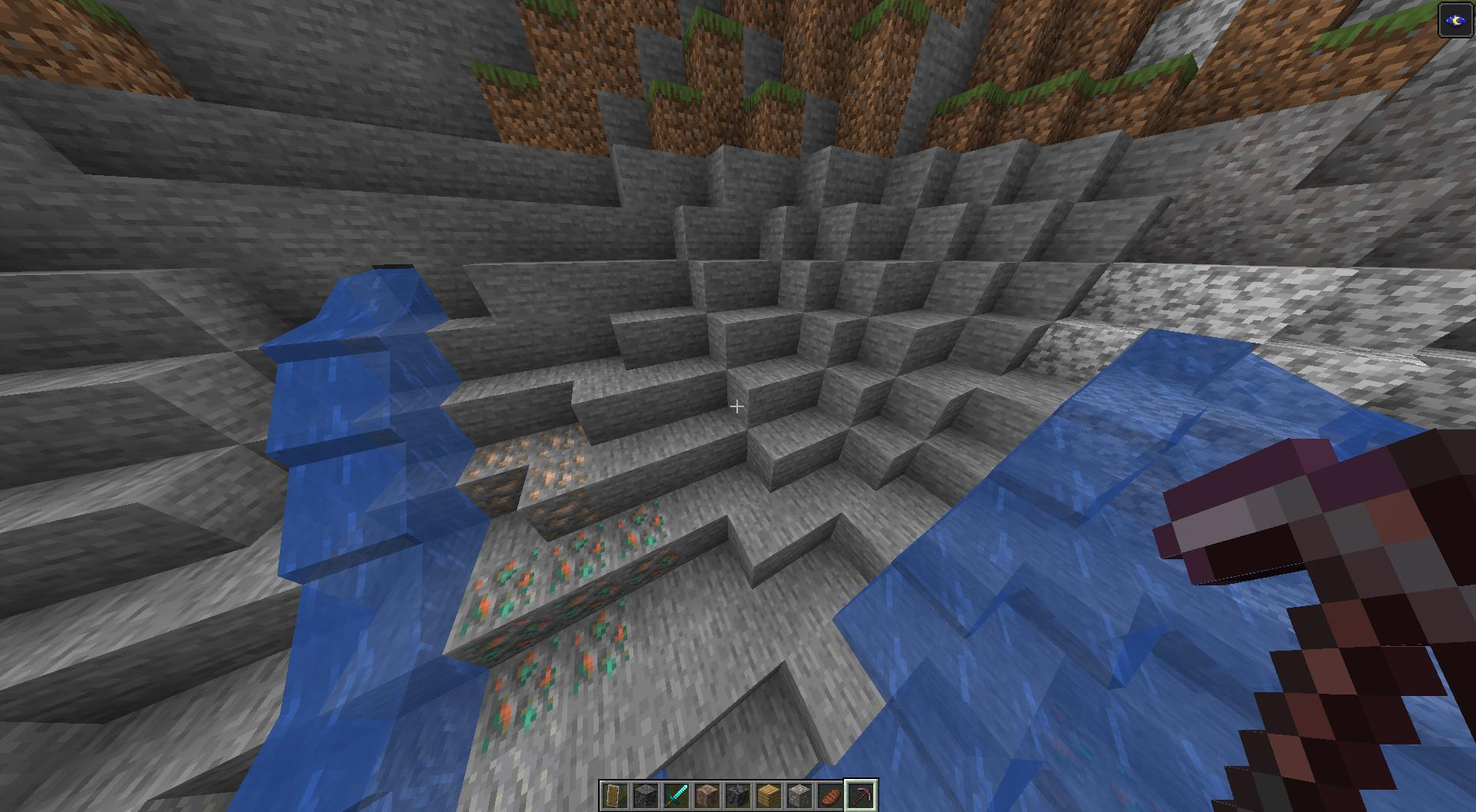iron ore: (465, 426, 599, 528)
